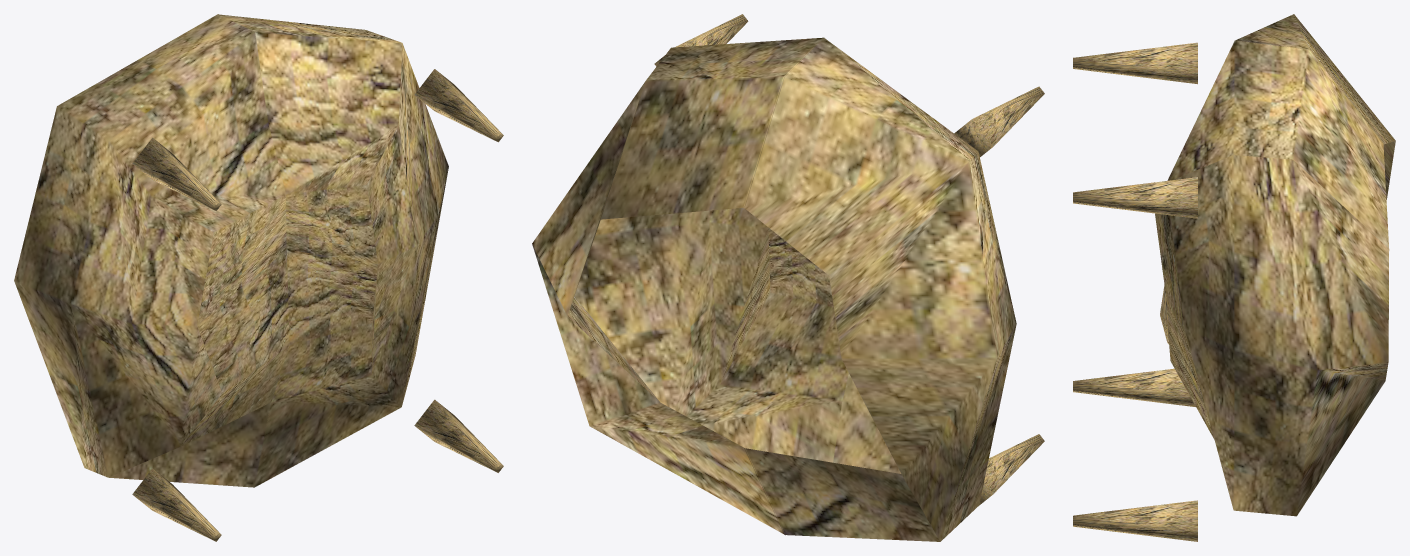
Rendered from stone_000024.obj.
3 renders of one model, left to right at view 1: azimuth 30°, elevation 25°; view 2: azimuth 150°, elevation 25°; view 3: azimuth 270°, elevation 25°, orthographic. The views are drawn at different scales.
Visible parts, largest first — view 1: Cube, Cube.001, Cylinder.001, Cylinder.003, Cylinder.002, Cylinder; view 2: Cube.001, Cube, Cylinder, Cylinder.001, Cylinder.003; view 3: Cube.001, Cube, Cylinder, Cylinder.003, Cylinder.002, Cylinder.001.
Part boxes in pixels (box(x1,y1,x2,y2)): Cube: box(14, 14, 289, 487); Cube.001: box(217, 14, 448, 487); Cylinder.001: box(132, 468, 221, 541); Cylinder.003: box(414, 69, 503, 142); Cylinder.002: box(414, 399, 503, 472); Cylinder: box(132, 137, 221, 210); Cube.001: box(532, 37, 848, 535); Cube: box(743, 37, 1016, 541); Cylinder: box(954, 86, 1044, 156); Cylinder.001: box(979, 434, 1044, 505); Cylinder.003: box(654, 14, 748, 66); Cube.001: box(1155, 40, 1389, 516); Cube: box(1160, 14, 1395, 344); Cylinder: box(1073, 42, 1197, 84); Cylinder.003: box(1073, 177, 1197, 218); Cylinder.002: box(1073, 500, 1197, 541); Cylinder.001: box(1073, 368, 1195, 406).
Bounding box in the file's own units: 6.65 × 6.59 × 4.34.
